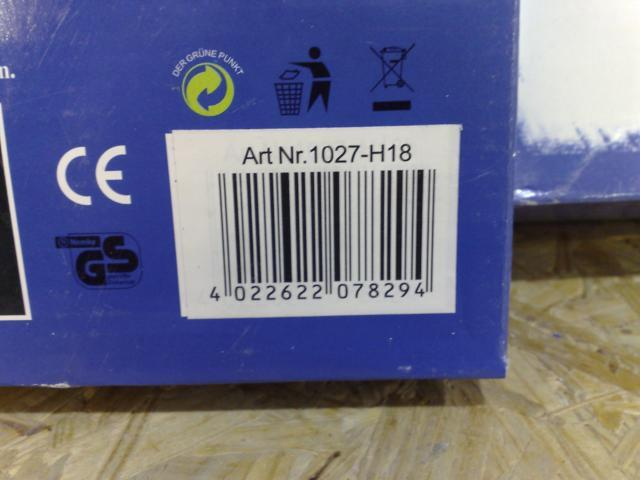Barcode: (172, 167, 461, 312)
